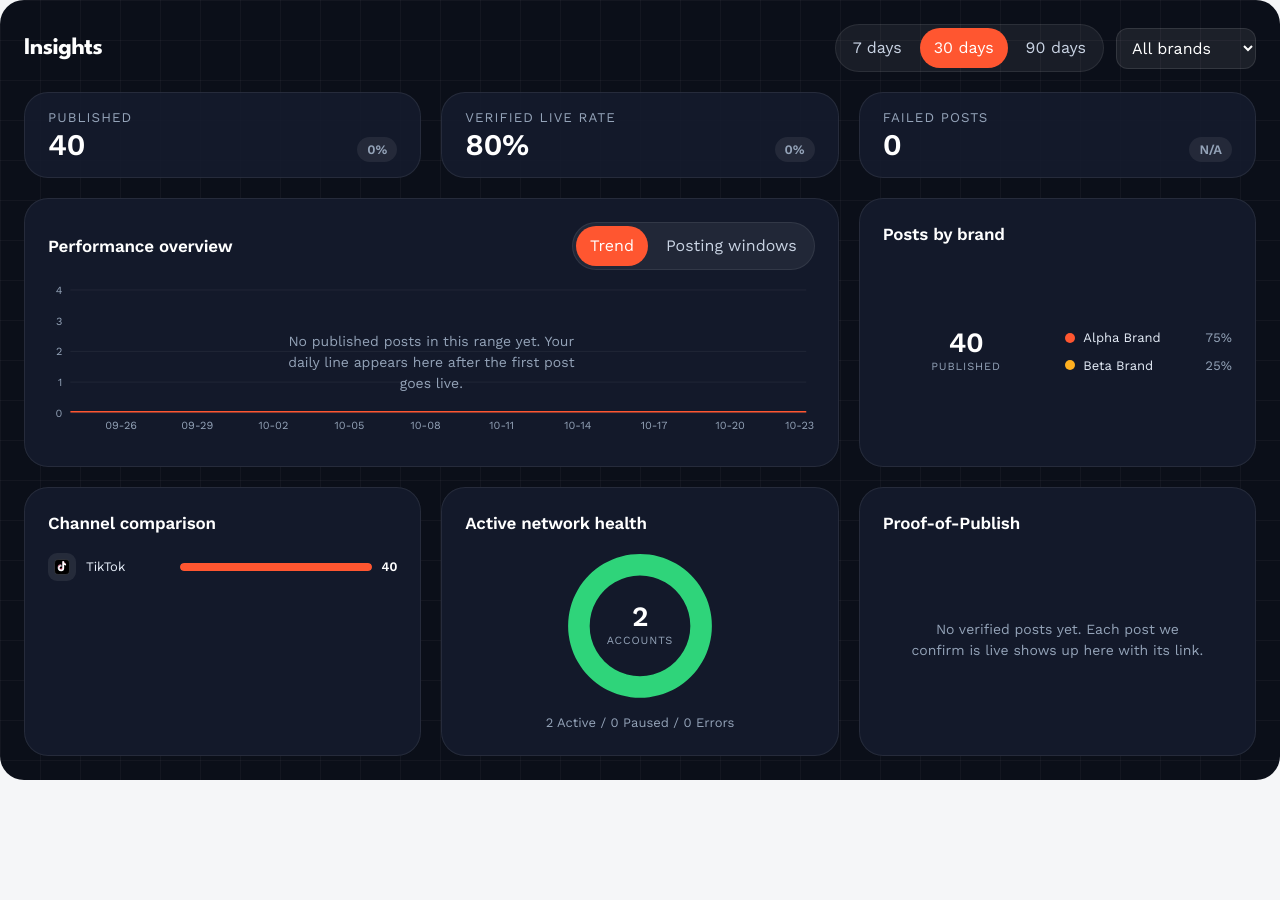
Scenario: AnalyticsWorkspaceTab › refetches when the range or the brand changes
The image size is (1280, 900).
Check: the element "Published" shows "40", box [48, 127, 85, 162]
Click the button "7 days".
click(877, 48)  # box [839, 28, 916, 68]
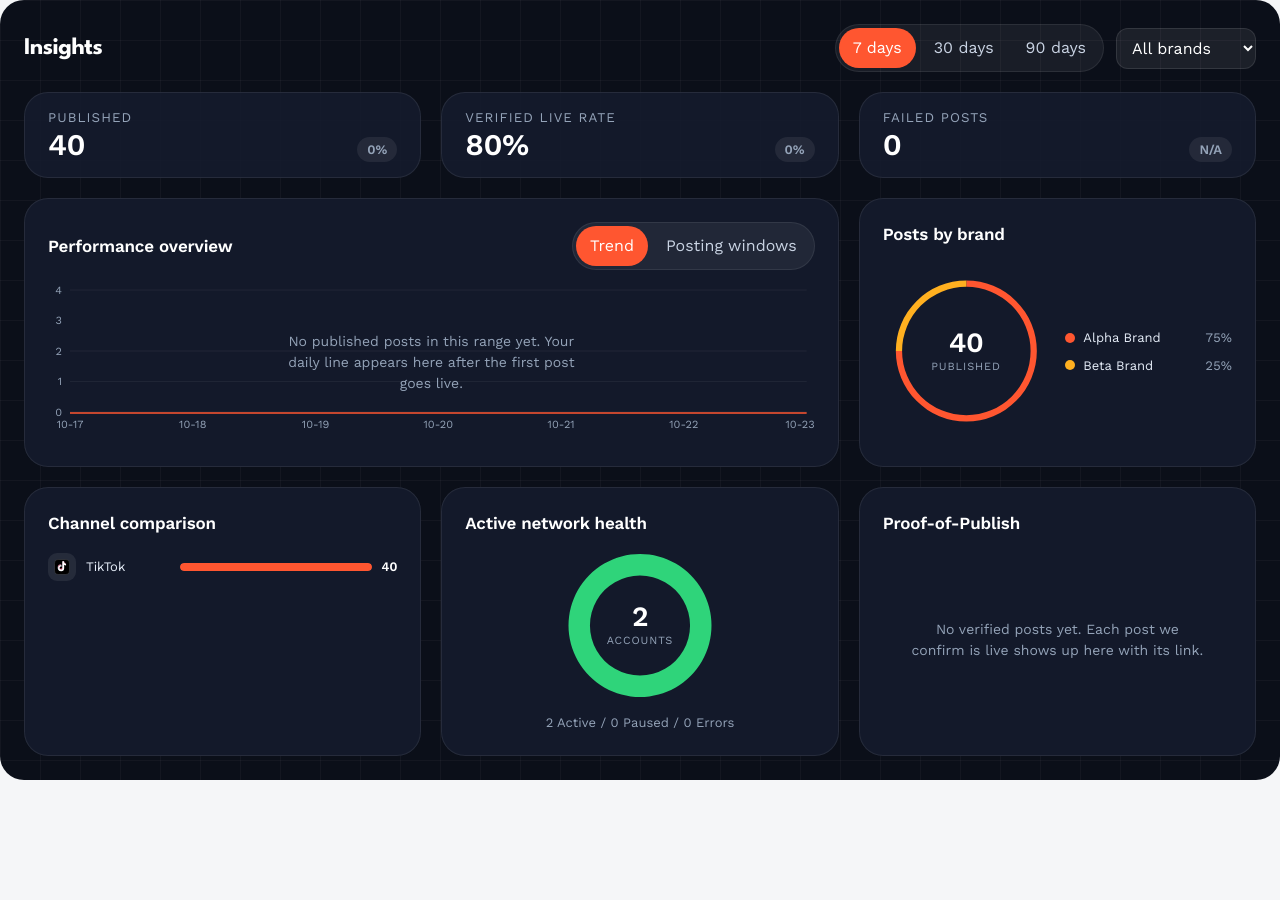
Select "Alpha Brand" in the dropdown named "Brand" at (1186, 48), box [1116, 28, 1256, 68]
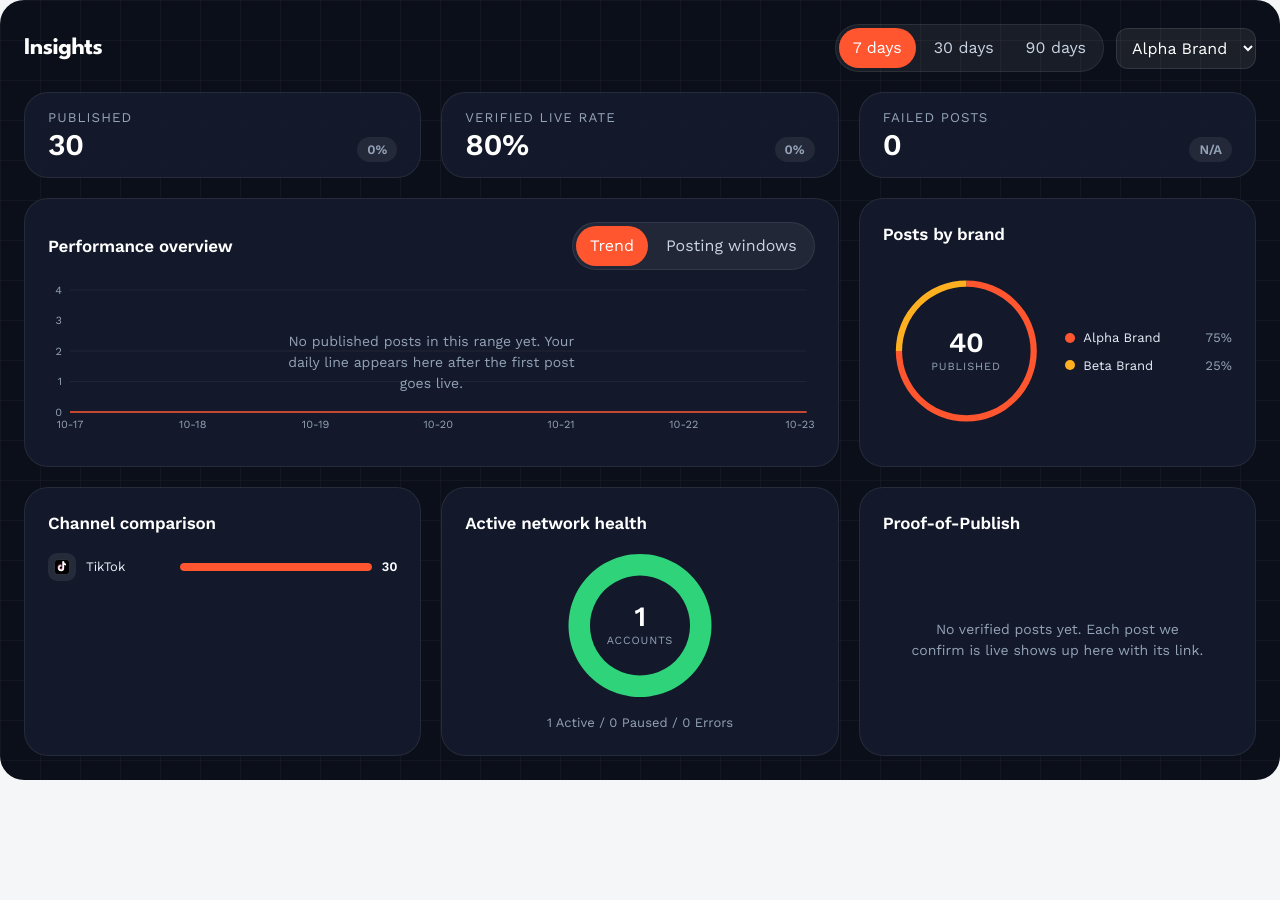
Check: the element "Published" shows "30", box [48, 127, 84, 162]
